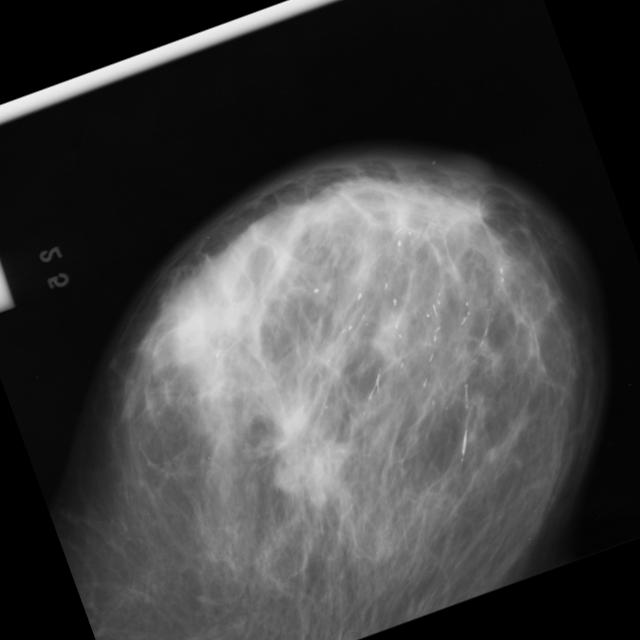SPIC: (54, 399, 443, 640)
